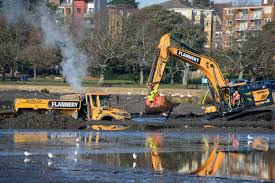excavator: (145, 33, 274, 126)
